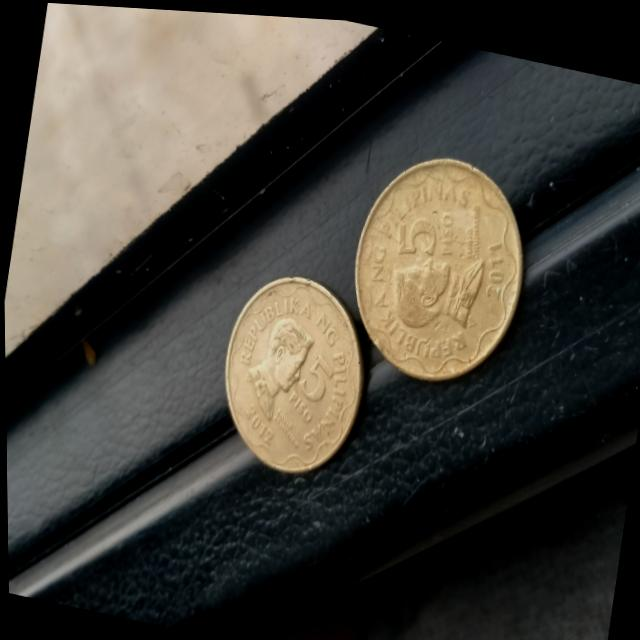5_Old_Front: (378, 184, 472, 272), (275, 343, 342, 439)
